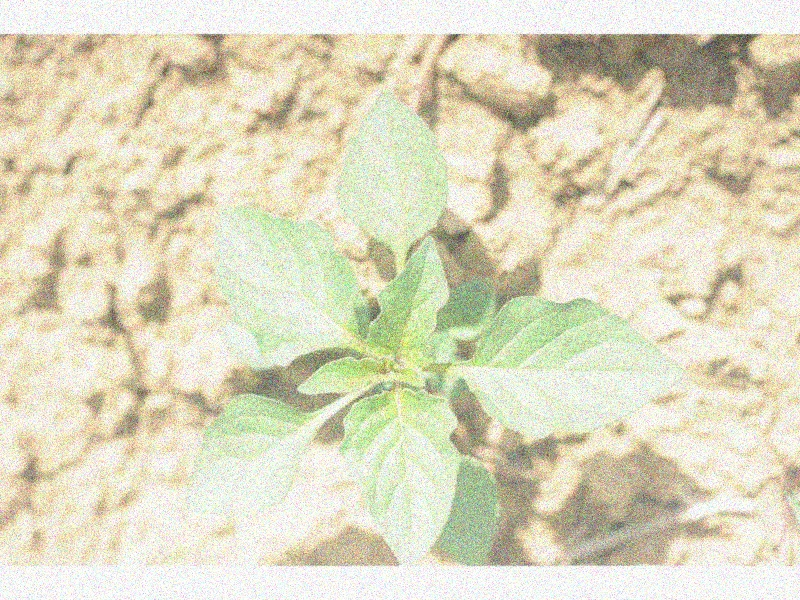nightshade: (188, 89, 687, 564)
